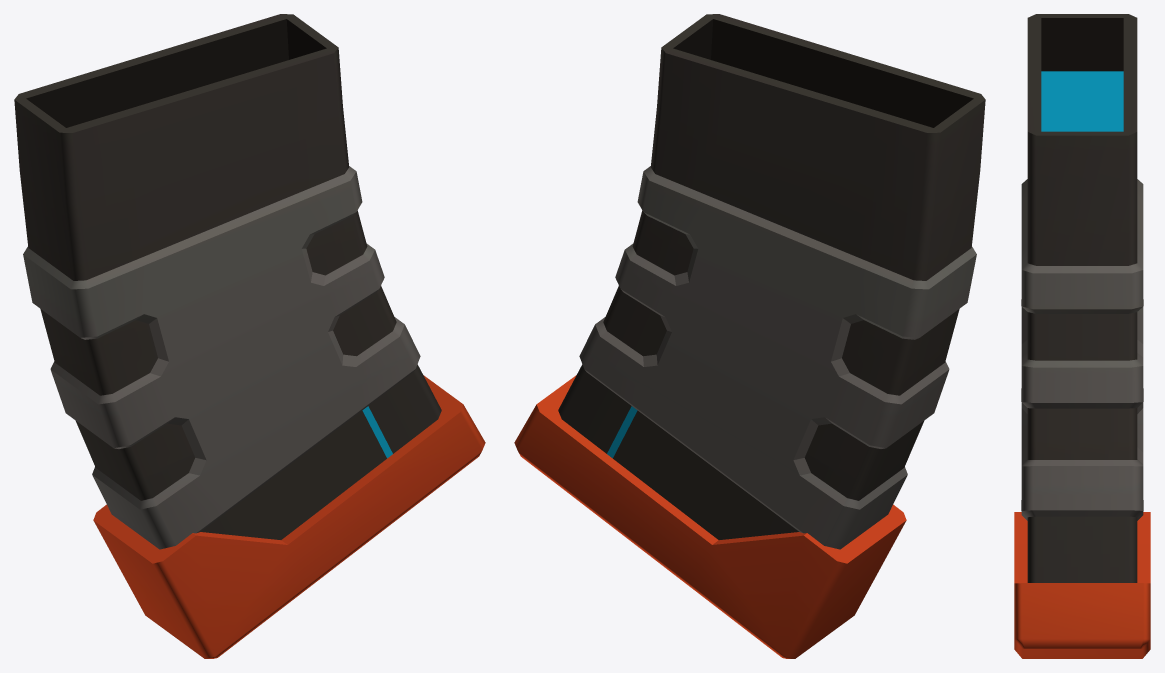
Rendered from AR1_Magazine.fbx.
3 views of the same model, side by side, from view 1: azimuth 30°, elevation 25°; view 2: azimuth 150°, elevation 25°; view 3: azimuth 270°, elevation 25° (orthographic). The views are drawn at different scales.
Parts seen in each view (by area): view 1: AR1_Magazine; view 2: AR1_Magazine; view 3: AR1_Magazine.
Part boxes in pixels (<box>): AR1_Magazine: <box>14,14,485,658</box>; AR1_Magazine: <box>514,14,985,658</box>; AR1_Magazine: <box>1014,14,1150,658</box>.
Size of the model in its own units: 11.16 by 14.65 by 3.07.
